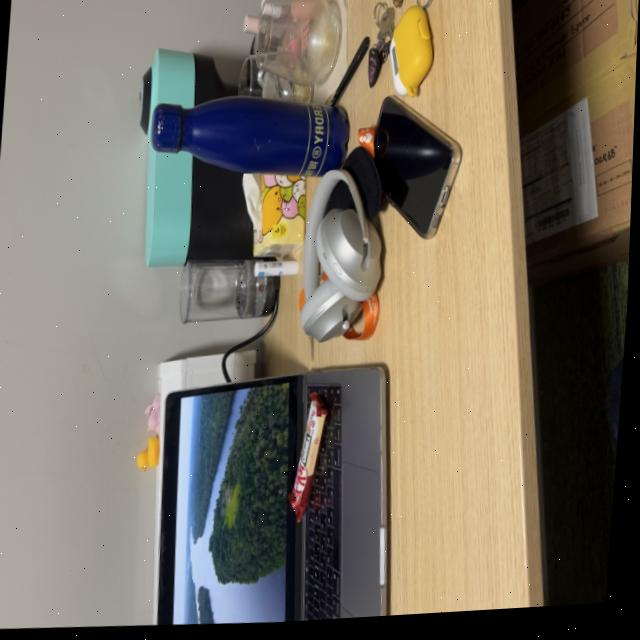chocolate: (283, 384, 336, 535)
